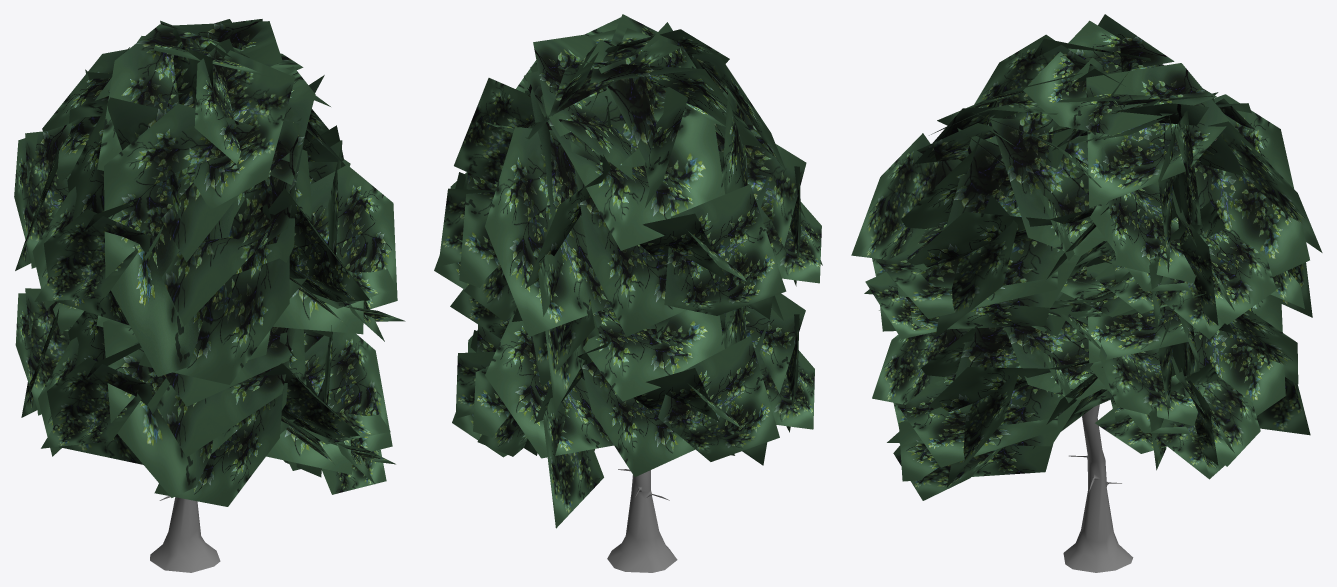
The model's file is parasolltree_lod1.fbx.
The picture shows the model from 3 angles, left to right: view 1: azimuth 30°, elevation 25°; view 2: azimuth 150°, elevation 25°; view 3: azimuth 270°, elevation 25°; orthographic projection.
Parts seen in each view (by area): view 1: Default_Layer; view 2: Default_Layer; view 3: Default_Layer.
Part boxes in pixels (x1=…): Default_Layer: x1=14, y1=19, x2=405, y2=572; Default_Layer: x1=434, y1=14, x2=822, y2=572; Default_Layer: x1=851, y1=14, x2=1322, y2=572.
Bounding box in the file's own units: 934 × 1388 × 1140.
